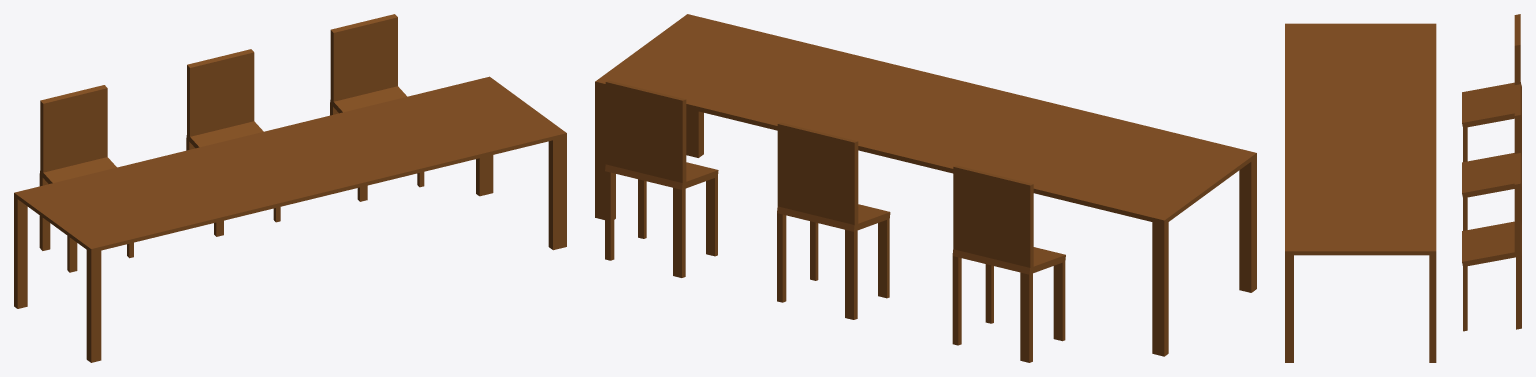
The model's file is masa.fbx.
3 views of the same model, side by side, from view 1: azimuth 30°, elevation 25°; view 2: azimuth 150°, elevation 25°; view 3: azimuth 270°, elevation 25° (orthographic). The views are drawn at different scales.
Parts seen in each view (by area): view 1: Cube.003; view 2: Cube.003; view 3: Cube.003.
Part boxes in pixels (x1=…): Cube.003: x1=14, y1=14, x2=566, y2=362; Cube.003: x1=595, y1=14, x2=1256, y2=362; Cube.003: x1=1285, y1=14, x2=1521, y2=362.
Bounding box in the file's own units: 712 × 225 × 313.
